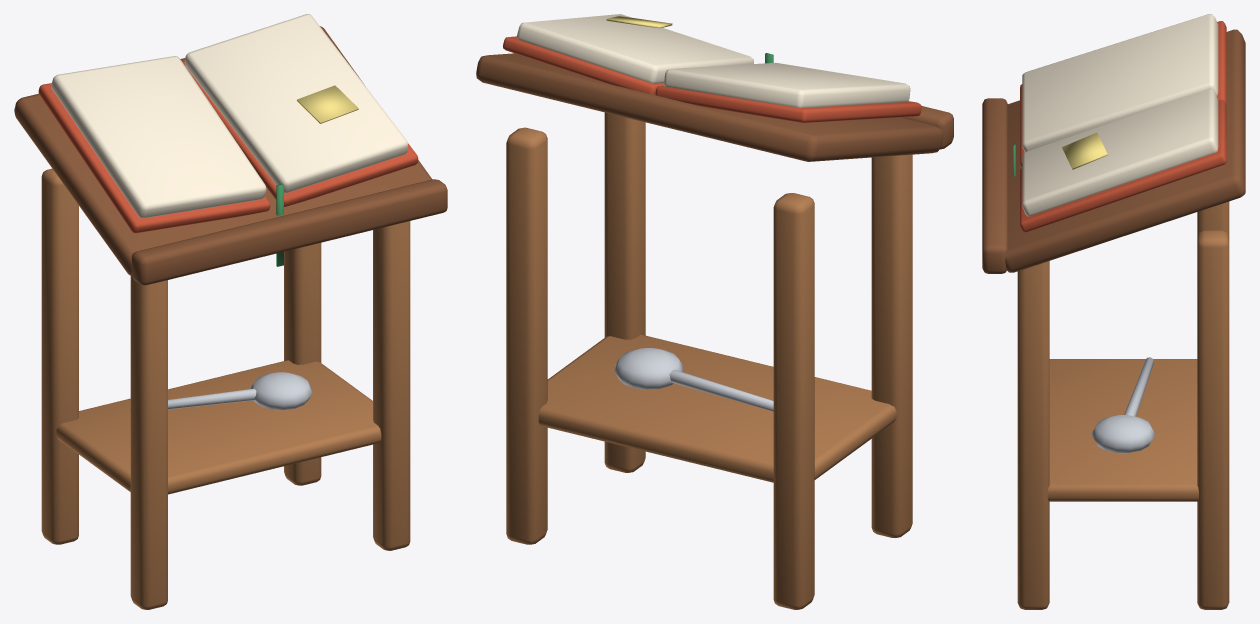
Rendered from grandma-cookbook.glb.
3 views of the same model, side by side, from view 1: azimuth 30°, elevation 25°; view 2: azimuth 150°, elevation 25°; view 3: azimuth 270°, elevation 25° (orthographic). The views are drawn at different scales.
Visible parts, largest first — view 1: stand, book; view 2: stand, book; view 3: stand, book.
Boxes of the visible parts, x1,y1,x2,y2 form: stand: (14,26,447,609); book: (38,14,418,410); stand: (476,53,953,609); book: (503,14,921,411); stand: (982,29,1245,609); book: (1013,14,1226,453).
Size of the model in its own units: 0.56 by 0.8096 by 0.4106.
